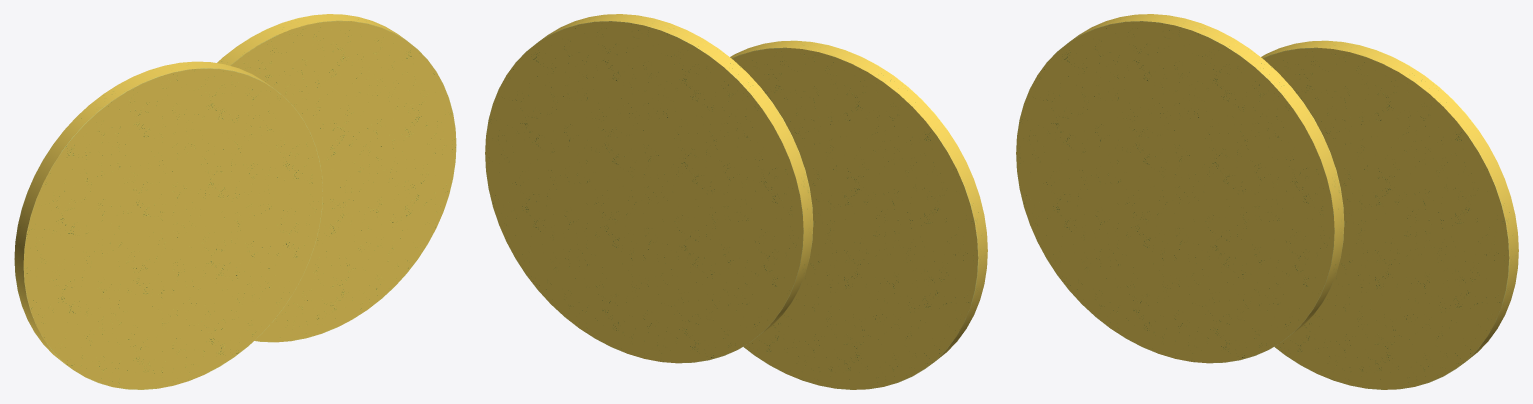
The model's file is bitcoin.glb.
The picture shows the model from 3 angles, left to right: view 1: azimuth 30°, elevation 25°; view 2: azimuth 150°, elevation 25°; view 3: azimuth 330°, elevation 25°; orthographic projection. The views are drawn at different scales.
Parts seen in each view (by area): view 1: Object_2; view 2: Object_2; view 3: Object_2.
Part boxes in pixels (box(x1,y1,x2,y2)): Object_2: box(14, 14, 456, 389); Object_2: box(485, 14, 987, 389); Object_2: box(1016, 14, 1518, 389).
Size of the model in its own units: 12.18 by 8.14 by 1.15.
Materials: 1 (1 with a texture image).
